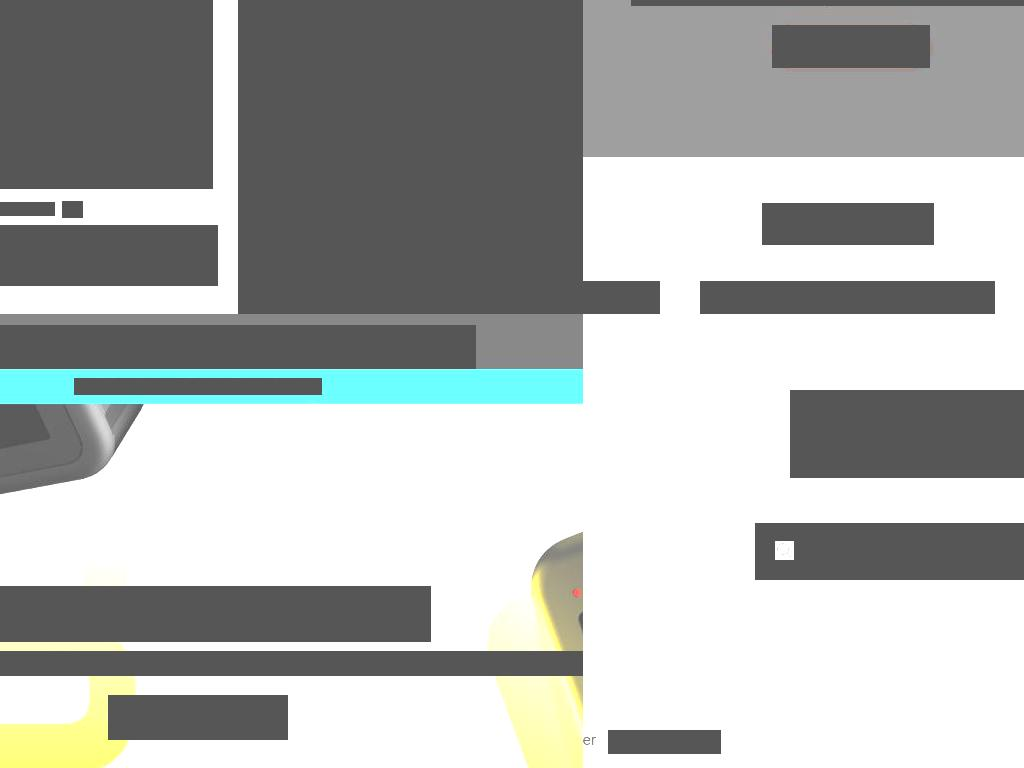button: (238, 0, 583, 314), (108, 695, 288, 740), (772, 25, 930, 68), (29, 325, 169, 369), (246, 325, 377, 369), (377, 325, 476, 369), (169, 325, 246, 369), (0, 325, 29, 369), (62, 201, 83, 218)
field: (755, 523, 1024, 580)
heading: (0, 0, 213, 189), (790, 390, 1024, 478), (147, 586, 431, 642), (0, 651, 583, 676), (0, 586, 147, 642), (786, 282, 955, 314)
image: (238, 0, 583, 314), (700, 281, 995, 314), (762, 203, 934, 245), (258, 270, 307, 314), (775, 541, 794, 560), (62, 204, 74, 216)
link: (149, 378, 322, 395)
text: (0, 225, 218, 286), (608, 730, 721, 754), (49, 338, 149, 356), (266, 338, 357, 356), (74, 378, 149, 395), (397, 338, 456, 356), (0, 202, 55, 216), (189, 338, 226, 356), (77, 201, 83, 218)
